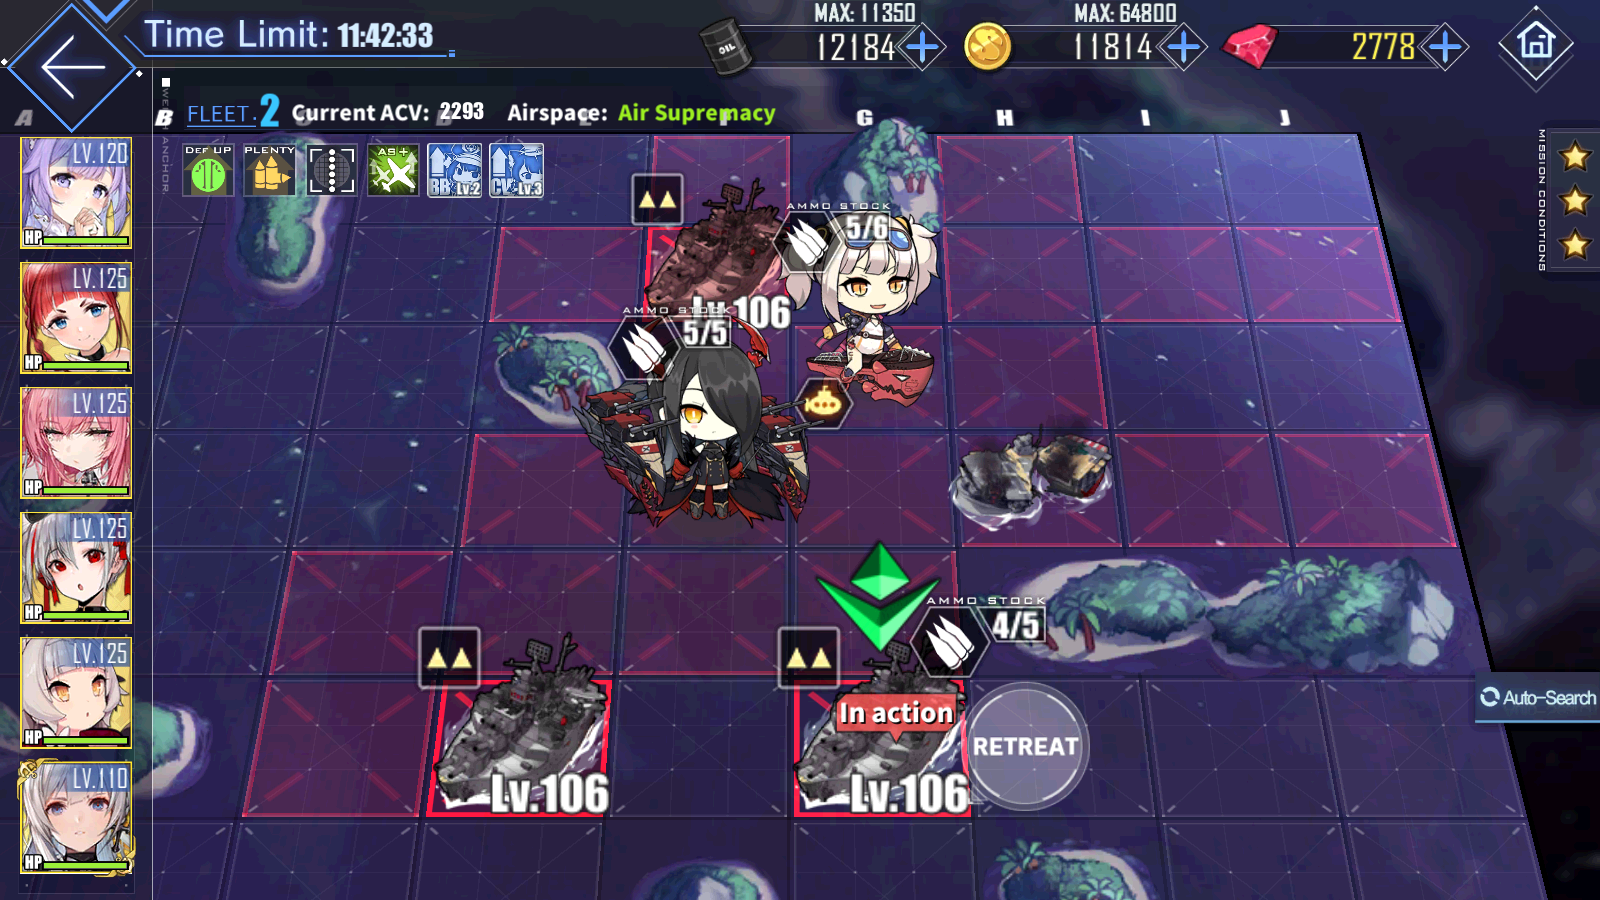ally: (578, 305, 808, 547), (774, 203, 937, 408)
enemy: (777, 627, 971, 818), (419, 625, 607, 819), (632, 174, 791, 326)
